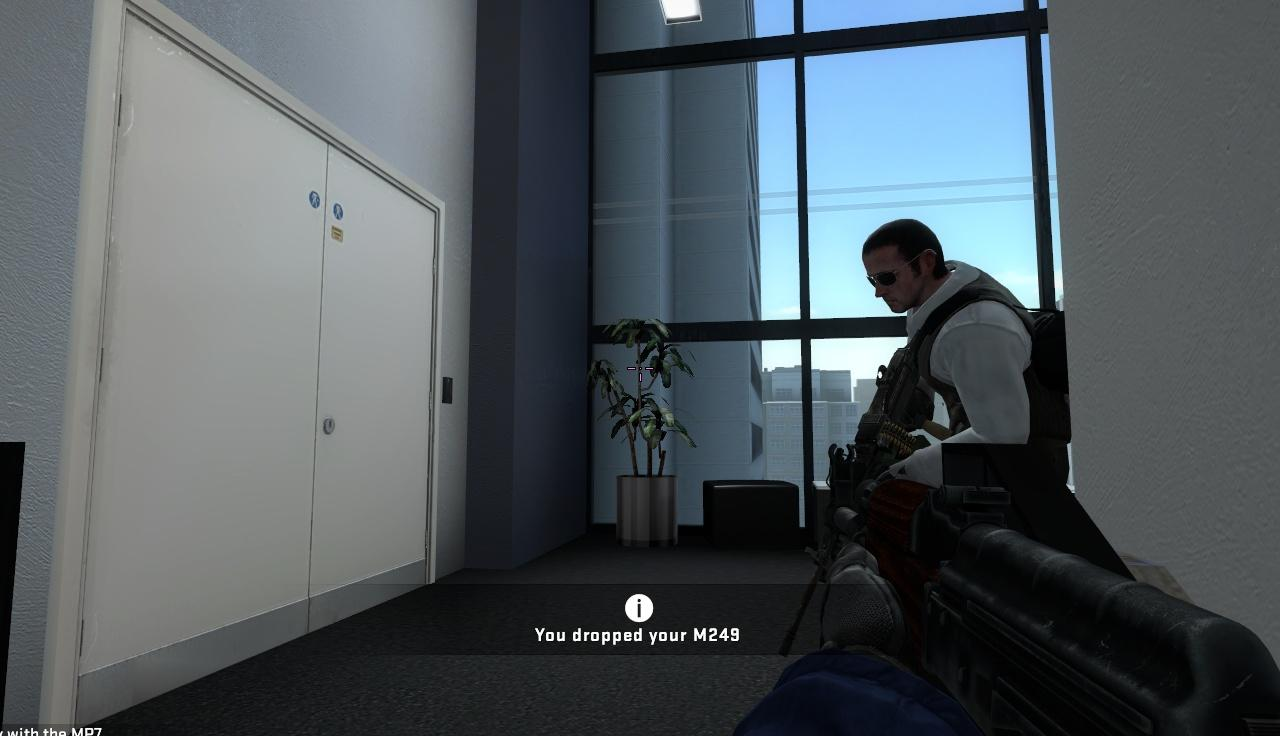rifle: (825, 442, 1280, 736)
tt: (858, 216, 1071, 442)
tthead: (859, 217, 949, 316)
